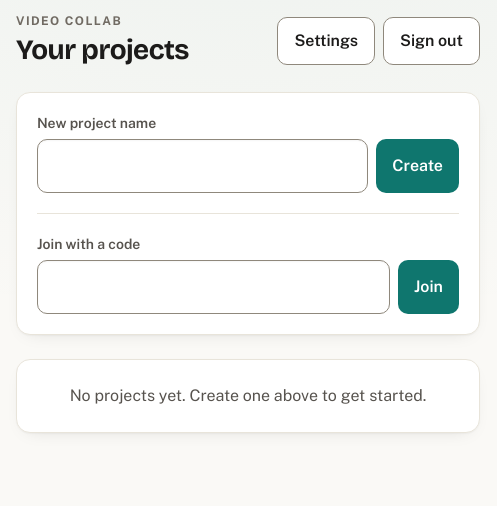
ProjectsPage — join with a code › shows the right message for invalid_code
Expected: the text "No projects yet. Create one above to get started." is shown, [41,384,455,408]
Type "0000" into the field labelled "Join with a code" at (214, 287), box [37,260,390,314]
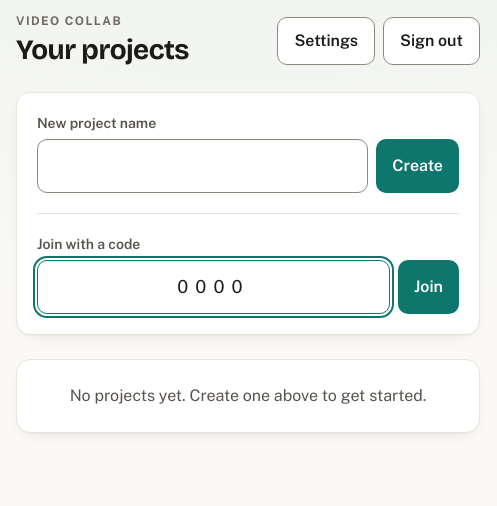
Click the button "Join" at (428, 287), box [398,260,459,314]
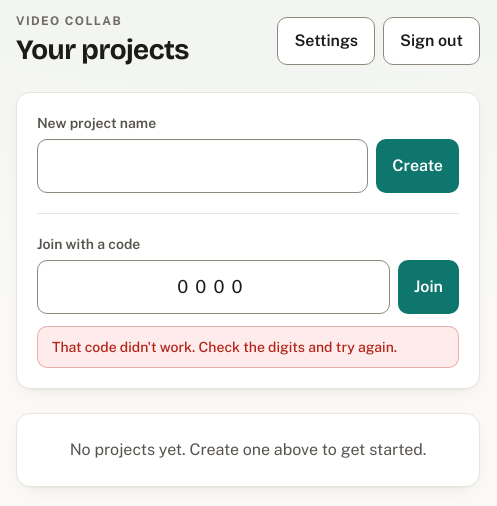
Expected: the text "That code didn't work. Check the digits and try again." is shown, [37,326,459,368]
